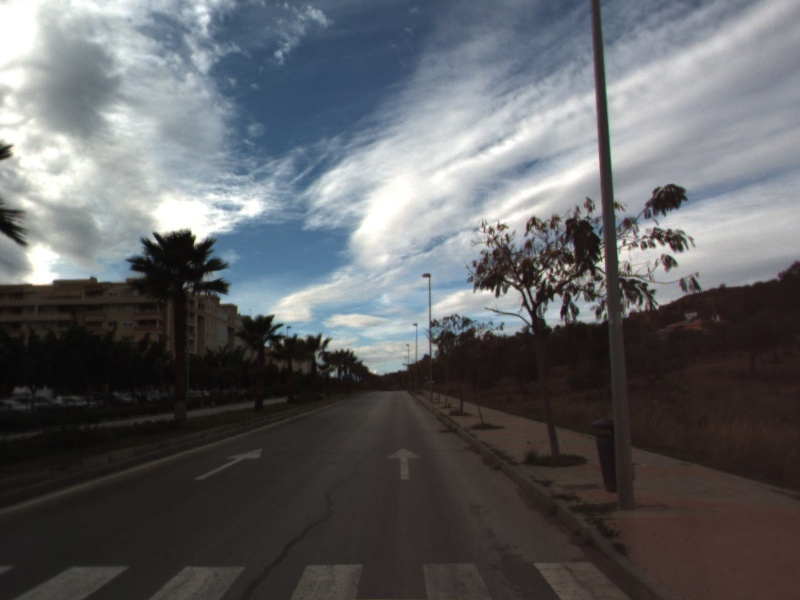STRAIGHT: (192, 446, 265, 482), (385, 445, 423, 481)
